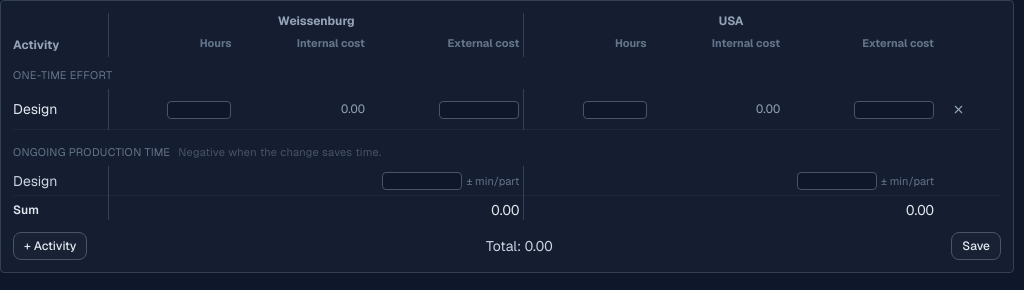
Test: CostLineGrid matrix › prices hours per plant and sums the column
Type "5" into the number field with test id "hours-a1-10" at [200, 110], box [168,101,232,119]
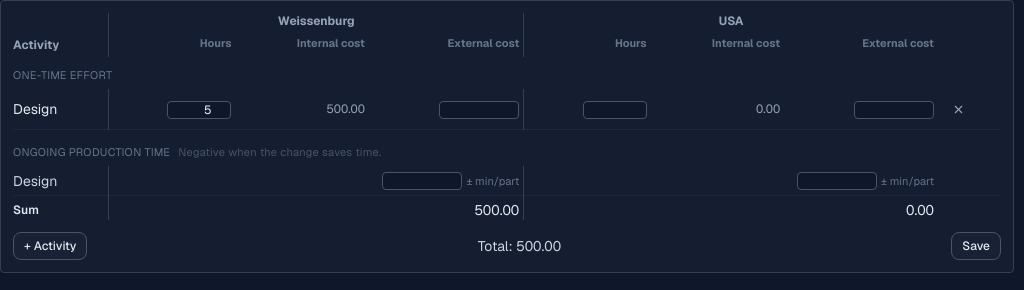
Check: the cell with test id "internal-a1-10" reads "500.00", box [327,101,365,117]
Type "250" into the number field with test id "external-a1-10" at [479, 110], box [439,101,519,119]
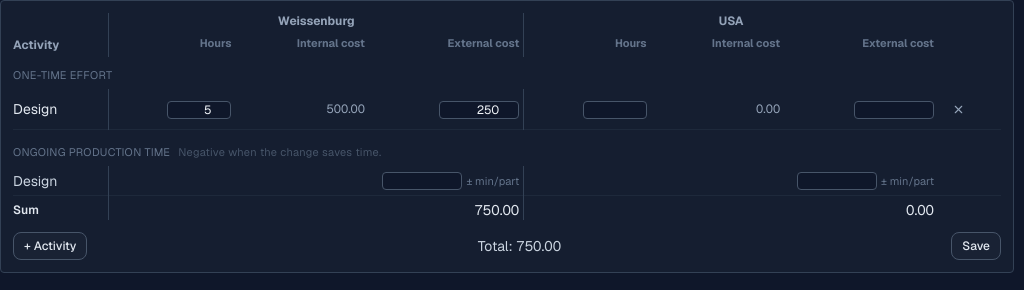
Check: the cell with test id "plant-sum-20" reads "0.00", box [906,201,934,219]
Check: the cell with test id "plant-sum-10" reads "750.00", box [474,201,519,219]
Check: the text with test id "cost-grand-total" shows "750.00", box [516,237,561,255]
